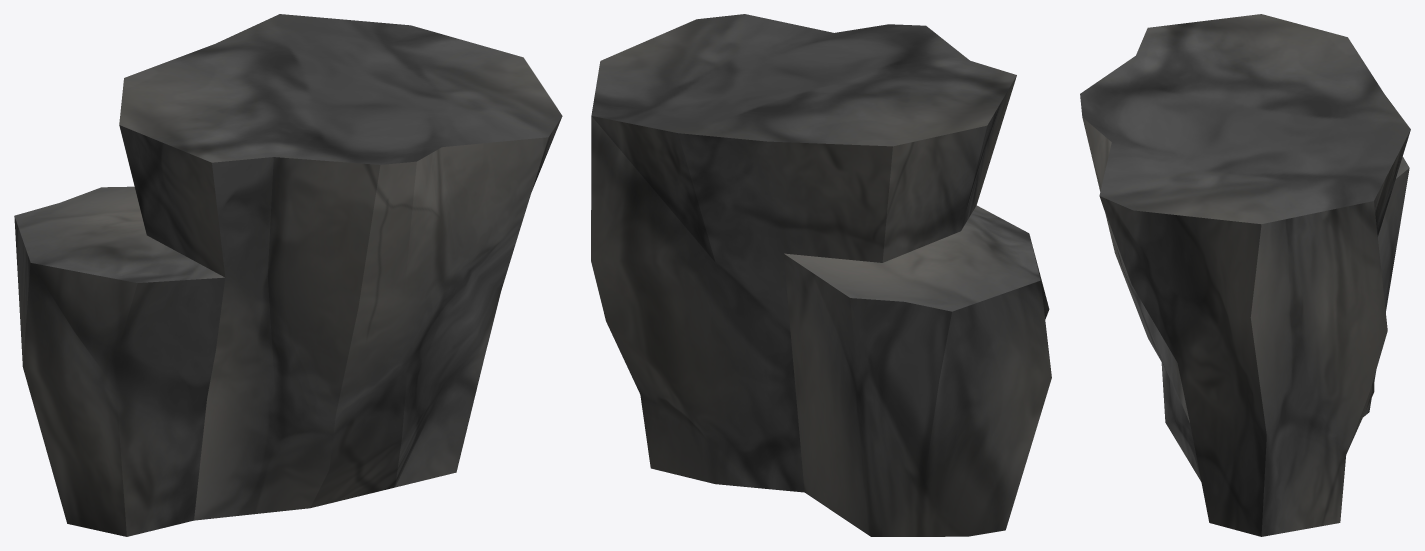
The model's file is M_gake8.fbx.
The picture shows the model from 3 angles, left to right: view 1: azimuth 30°, elevation 25°; view 2: azimuth 150°, elevation 25°; view 3: azimuth 270°, elevation 25°; orthographic projection. The views are drawn at different scales.
Visible parts, largest first — view 1: M_gake8; view 2: M_gake8; view 3: M_gake8.
Part boxes in pixels (left/top/right/bottom): M_gake8: left=14, top=14, right=562, bottom=536; M_gake8: left=591, top=14, right=1051, bottom=536; M_gake8: left=1080, top=14, right=1410, bottom=536.
Size of the model in its own units: 4992 by 3945 by 3197.
1 material, 1 textured.
